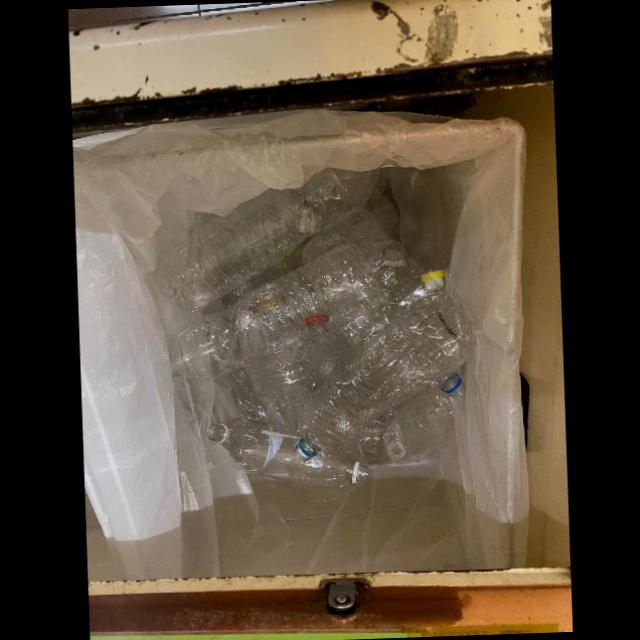chai_nhua_pet: (294, 288, 476, 461), (167, 248, 381, 380), (155, 191, 321, 313), (228, 430, 366, 487), (382, 395, 454, 464)
